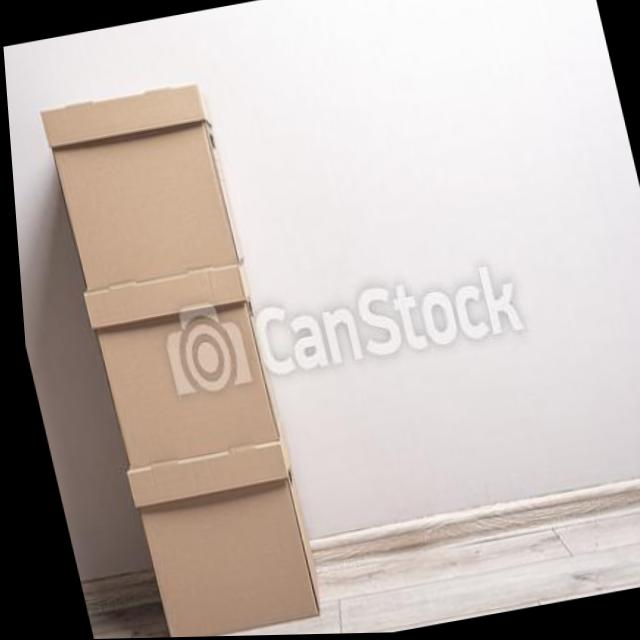box: (23, 56, 258, 290), (61, 259, 288, 473), (105, 438, 339, 639)
